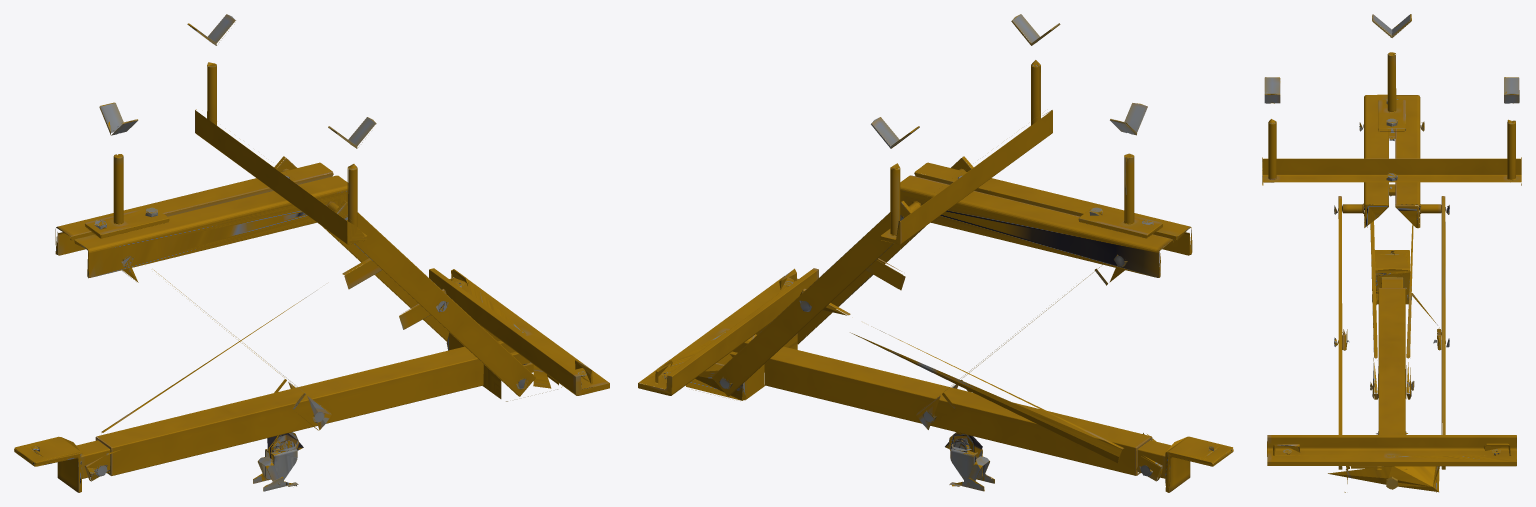
Rendered from vehicleSupport_axle_differential_stand_a01.glb.
3 renders of one model, left to right at view 1: azimuth 30°, elevation 25°; view 2: azimuth 150°, elevation 25°; view 3: azimuth 270°, elevation 25°, orthographic. The views are drawn at different scales.
Parts seen in each view (by area): view 1: geometry_0; view 2: geometry_0; view 3: geometry_0.
Boxes of the visible parts, bbox=[...] form: geometry_0: bbox=[14, 14, 609, 492]; geometry_0: bbox=[638, 14, 1233, 492]; geometry_0: bbox=[1262, 14, 1521, 492].
Size of the model in its own units: 0.42 by 0.3168 by 0.214.
1 material, 1 textured.
